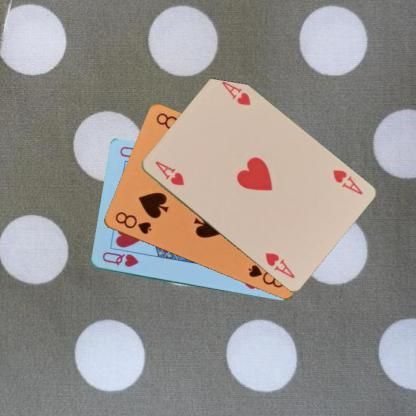8s: (112, 209, 153, 236)
Ah: (329, 167, 364, 196), (152, 158, 185, 187)
Qh: (99, 250, 140, 268)
